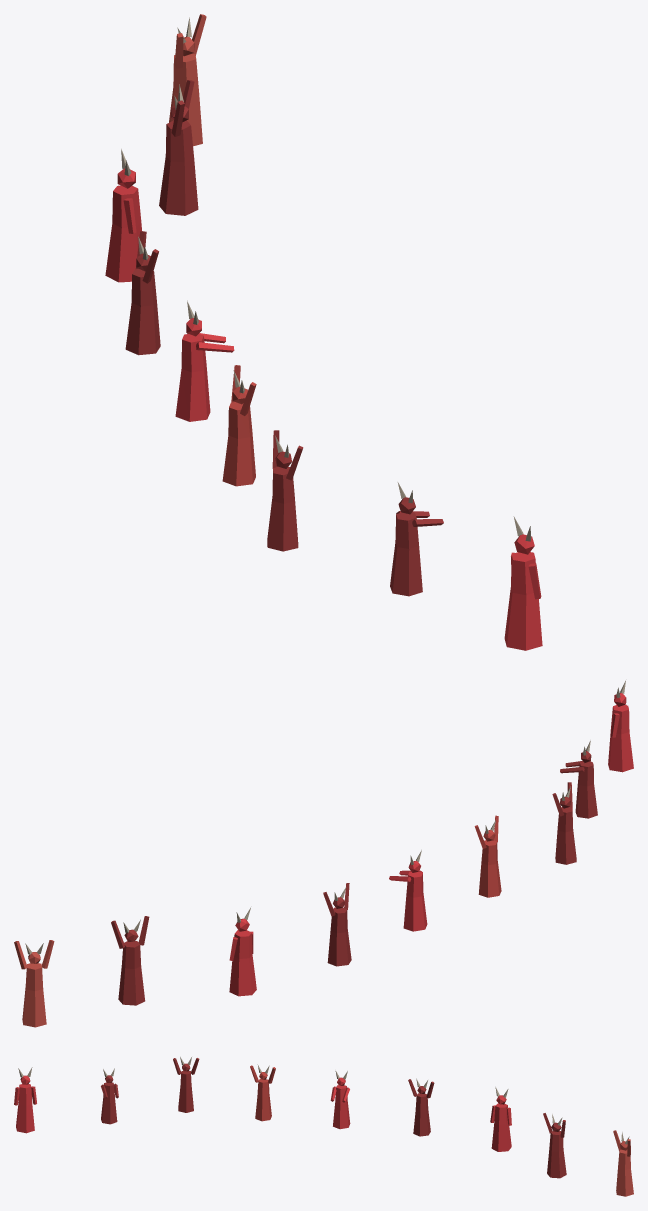
The model's file is Stands_5_0_2.obj.
3 renders of one model, top to bottom at view 1: azimuth 30°, elevation 25°; view 2: azimuth 150°, elevation 25°; view 3: azimuth 270°, elevation 25°, orthographic. The views are drawn at different scales.
Parts seen in each view (by area): view 1: Stands_5_0_2; view 2: Stands_5_0_2; view 3: Stands_5_0_2.
Boxes of the visible parts, x1,y1,x2,y2 form: Stands_5_0_2: (105,14,542,650); Stands_5_0_2: (14,680,633,1027); Stands_5_0_2: (14,1057,633,1196).
Size of the model in its own units: 12.06 by 3.71 by 33.93.
1 material, 1 textured.
